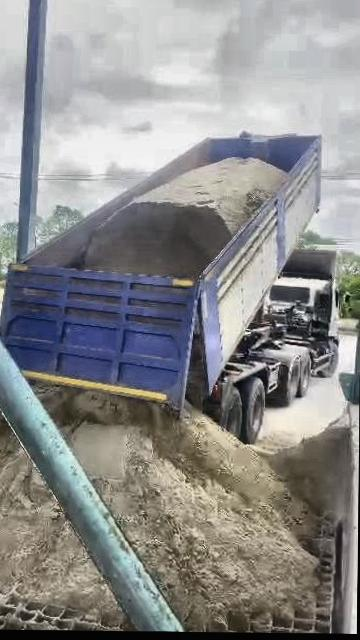sand: (43, 389, 317, 631), (0, 424, 128, 627), (79, 158, 286, 278), (255, 418, 351, 509), (187, 337, 204, 406)
